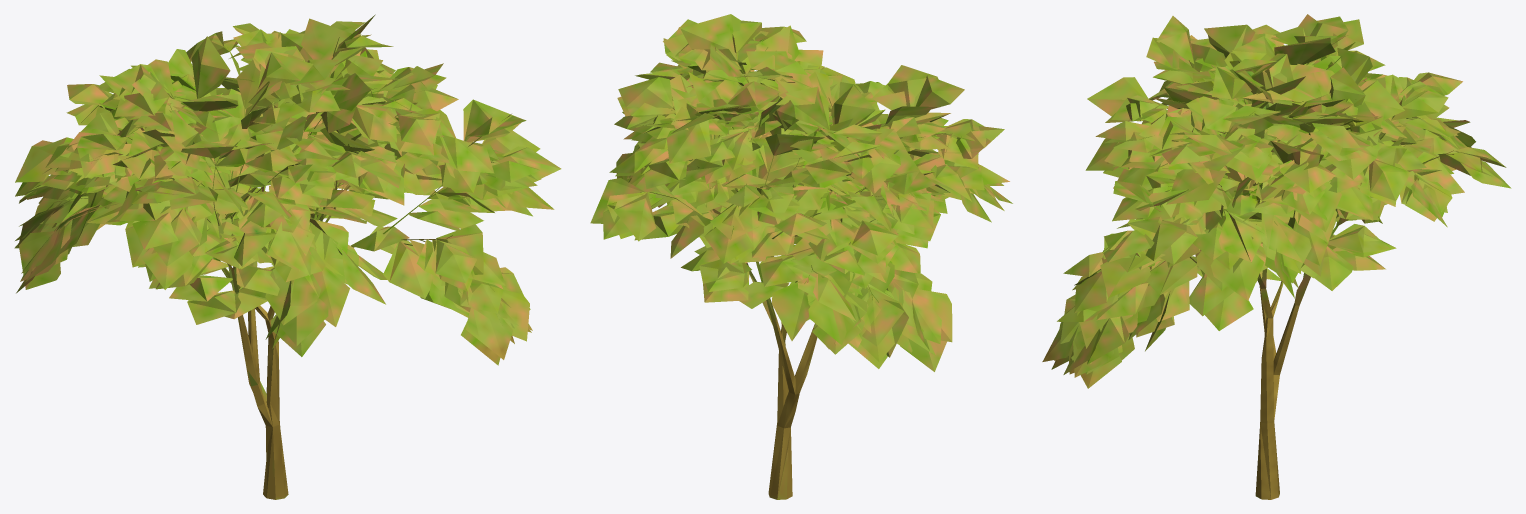
File: my_mesh_Tree4.glb
3 renders of one model, left to right at view 1: azimuth 30°, elevation 25°; view 2: azimuth 150°, elevation 25°; view 3: azimuth 270°, elevation 25°, orthographic. The views are drawn at different scales.
Parts seen in each view (by area): view 1: Tree4; view 2: Tree4; view 3: Tree4.
Part boxes in pixels (left/top/right/bottom): Tree4: left=14, top=14, right=561, bottom=499; Tree4: left=590, top=14, right=1012, bottom=499; Tree4: left=1042, top=14, right=1511, bottom=499.
Size of the model in its own units: 26.51 by 27.89 by 25.87.
Materials: 1 (1 with a texture image).
